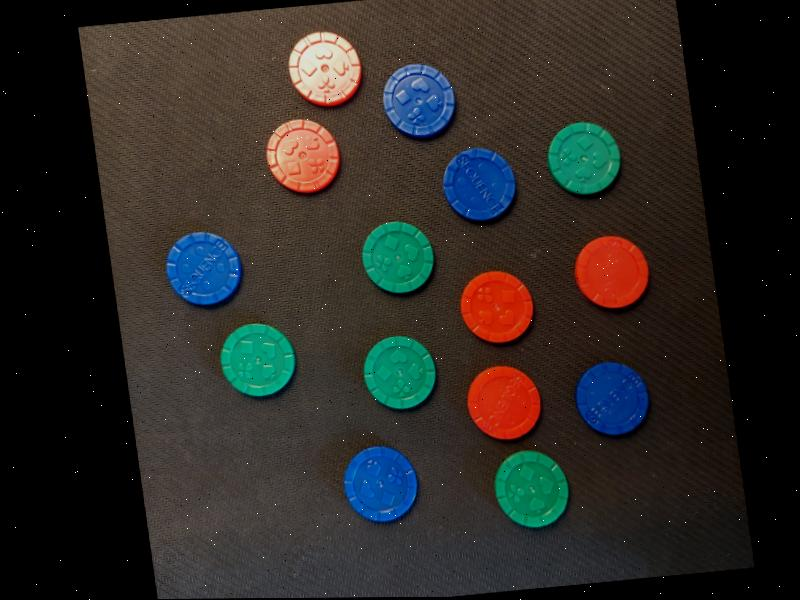Blue_Token: (325, 433, 424, 535), (154, 220, 250, 319), (369, 57, 470, 146), (428, 141, 524, 227), (564, 354, 655, 441)
Green_Token: (537, 107, 633, 205), (349, 207, 445, 301), (209, 315, 301, 405), (489, 444, 577, 536), (355, 330, 435, 412)
Red_Token: (247, 112, 349, 201), (562, 226, 656, 315), (458, 355, 548, 441), (453, 262, 541, 344), (278, 28, 366, 107)
